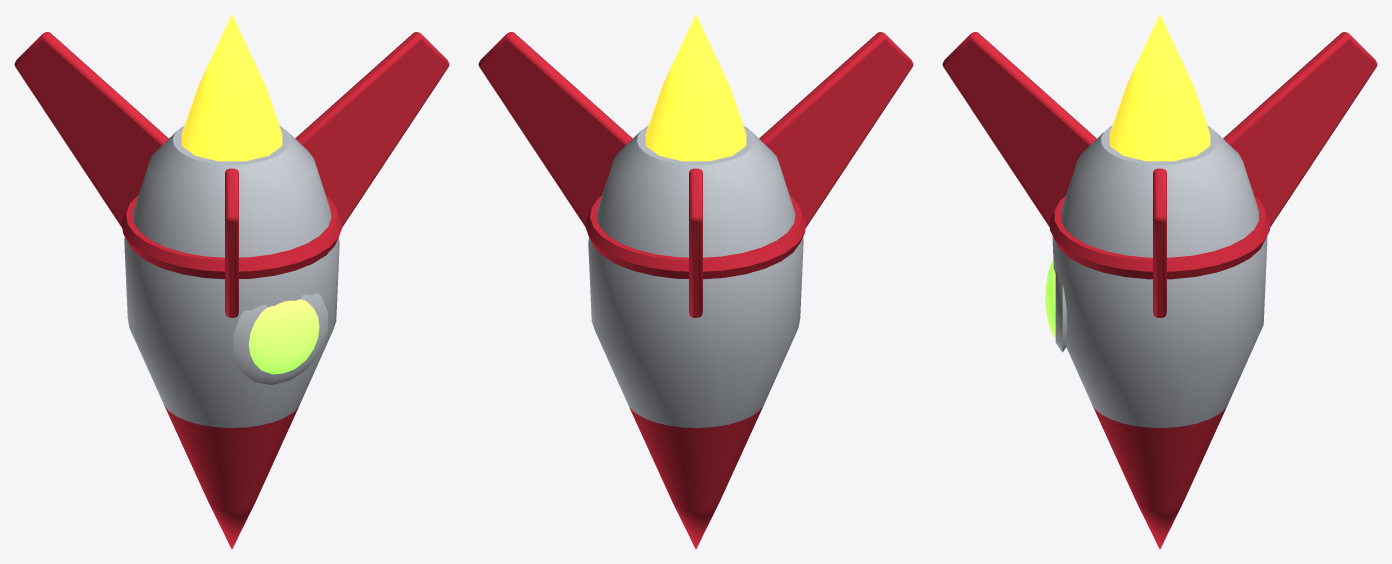
Rendered from alien_diver.glb.
The picture shows the model from 3 angles, left to right: view 1: azimuth 30°, elevation 25°; view 2: azimuth 150°, elevation 25°; view 3: azimuth 270°, elevation 25°; orthographic projection.
Parts seen in each view (by area): view 1: body, fin.003, fin.001, flame, nose, band, port, port_ring, fin.005; view 2: body, fin.005, fin.001, flame, nose, band, fin.003; view 3: body, fin.003, fin.005, flame, nose, band, fin.001, port_ring, port.
Boxes of the visible parts, left/top/right/bottom form: body: left=124, top=125, right=339, bottom=427; fin.003: left=14, top=32, right=168, bottom=227; fin.001: left=295, top=32, right=449, bottom=226; flame: left=181, top=14, right=282, bottom=161; nose: left=164, top=405, right=298, bottom=549; band: left=121, top=196, right=342, bottom=279; port: left=248, top=299, right=319, bottom=374; port_ring: left=233, top=293, right=327, bottom=384; fin.005: left=225, top=168, right=238, bottom=317; body: left=588, top=125, right=803, bottom=427; fin.005: left=759, top=32, right=913, bottom=227; fin.001: left=478, top=32, right=632, bottom=226; flame: left=645, top=14, right=746, bottom=161; nose: left=629, top=405, right=763, bottom=549; band: left=585, top=196, right=806, bottom=279; fin.003: left=689, top=168, right=702, bottom=317; body: left=1052, top=125, right=1267, bottom=427; fin.003: left=1223, top=32, right=1377, bottom=227; fin.005: left=942, top=32, right=1096, bottom=227; flame: left=1109, top=14, right=1210, bottom=161; nose: left=1091, top=403, right=1228, bottom=549; band: left=1050, top=196, right=1269, bottom=279; fin.001: left=1153, top=168, right=1166, bottom=317; port_ring: left=1055, top=271, right=1067, bottom=352; port: left=1045, top=260, right=1055, bottom=338.
Bounding box in the file's own units: 1.09 × 1.7 × 1.25.
